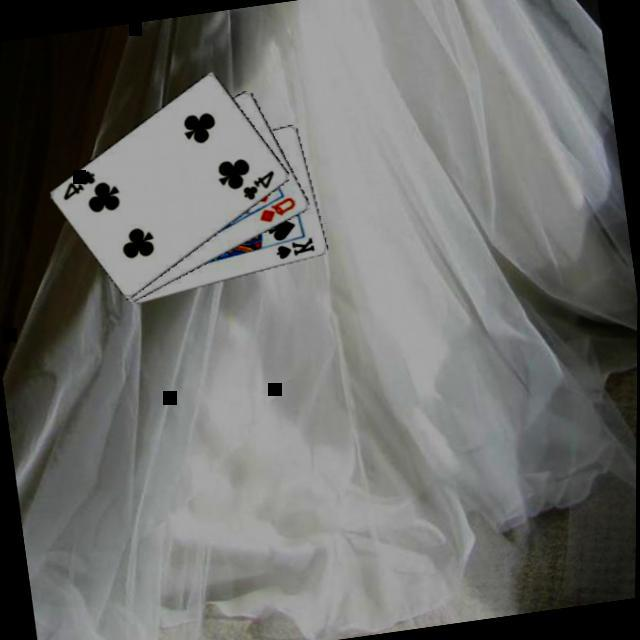4C: (239, 166, 282, 203), (60, 166, 103, 203)
KS: (273, 234, 320, 262)
QD: (257, 193, 302, 226)
